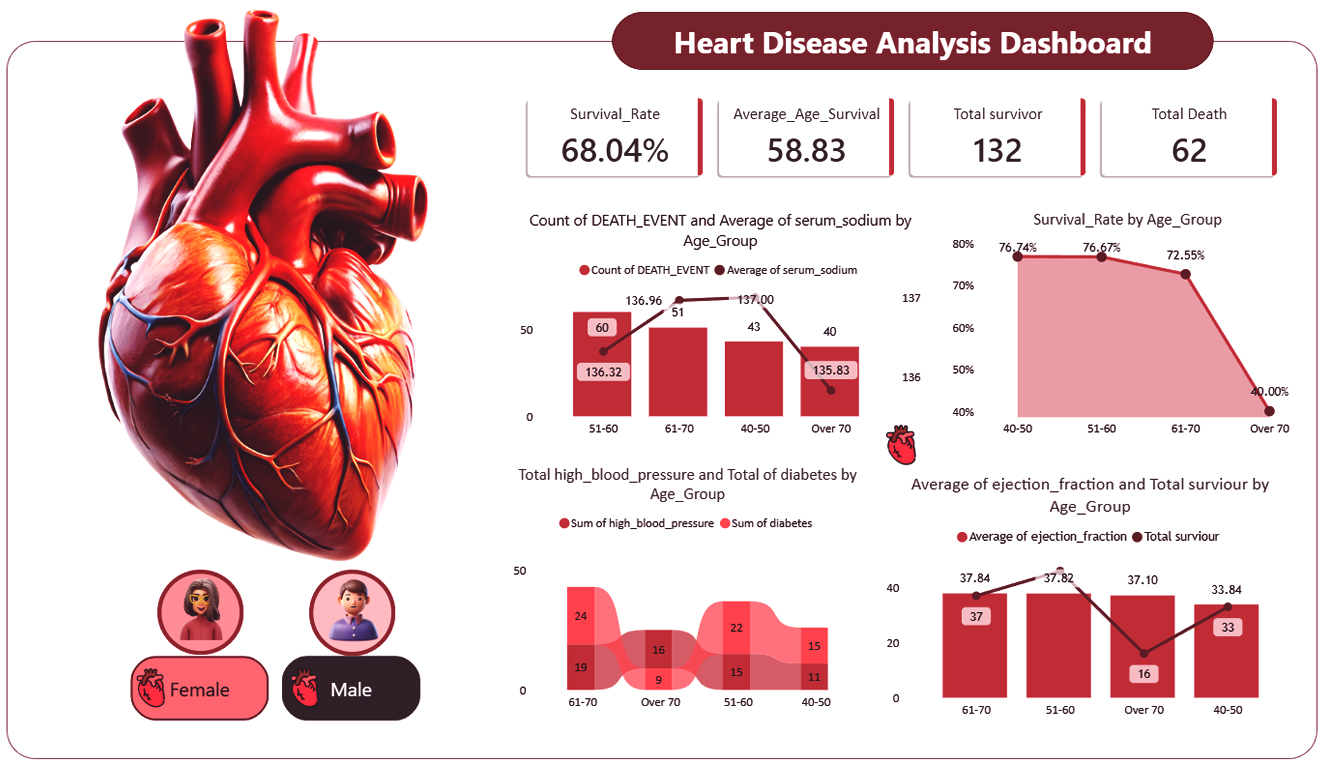

What the dashboard file says about the page in this screenshot:
{"tool":"powerbi","page":{"name":"Page 1","canvas":[1300,750],"ordinal":0},"visuals":[{"type":"shape","box":[9.4,40.6,1280.9,701.8],"z":0},{"type":"cardVisual","fields":{"Data":["heart_Disease.Survival_Rate","heart_Disease.Average_Age_Survival","heart_Disease.Total surviour","heart_Disease.Total Death"]},"box":[498.8,76.8,774.7,116.6],"z":1000},{"type":"image","box":[9.4,0,495.9,557.3],"z":2000},{"type":"lineClusteredColumnComboChart","fields":{"Category":["heart_Disease.Age_Group"],"Y":["CountNonNull(heart_Disease.DEATH_EVENT)"],"Y2":["Avg(heart_Disease.serum_sodium)"]},"box":[505.4,204.8,403,230.4],"z":3000},{"type":"lineClusteredColumnComboChart","fields":{"Category":["heart_Disease.Age_Group"],"Y":["Avg(heart_Disease.ejection_fraction)"],"Y2":["heart_Disease.Total surviour"]},"box":[863.4,461.9,409.9,248.4],"z":4000},{"type":"areaChart","fields":{"Category":["heart_Disease.Age_Group"],"Y":["heart_Disease.Survival_Rate"]},"box":[928.3,204.8,352.7,230.4],"z":5000},{"type":"ribbonChart","title":"Total high_blood_pressure and Total of diabetes by Age_Group","fields":{"Category":["heart_Disease.Age_Group"],"Y":["Sum(heart_Disease.high_blood_pressure)","Sum(heart_Disease.diabetes)"]},"box":[498.7,454.3,352.3,248.4],"z":6000},{"type":"shape","box":[600.8,12.3,588.5,56.7],"z":7000},{"type":"advancedSlicerVisual","fields":{"Values":["heart_Disease.Gender"]},"box":[125.2,636.3,294.9,74],"z":8000},{"type":"shape","box":[156.4,557.5,84.4,83.4],"z":9000},{"type":"image","box":[167.8,561.3,63.5,66.4],"z":10000},{"type":"shape","box":[305.3,557.5,84.4,84.4],"z":11000},{"type":"image","box":[312.9,557.5,72.1,79.6],"z":12000},{"type":"image","box":[863.4,410.9,39.7,49.1],"z":13000},{"type":"image","box":[130.9,652.4,37.9,39.8],"z":14000},{"type":"image","box":[281.6,652.4,37.9,39.8],"z":15000}]}

Visuals, with their boxes in screenshot pixels (x1, y1, x2, y2), scaled from the page's 1300x750 canvas onto the 1325x764 screenshot:
shape: crop(10, 41, 1315, 756)
cardVisual - heart_Disease.Survival_Rate x heart_Disease.Average_Age_Survival: crop(508, 78, 1298, 197)
image: crop(10, 0, 515, 568)
lineClusteredColumnComboChart - heart_Disease.Age_Group x CountNonNull(heart_Disease.DEATH_EVENT): crop(515, 209, 926, 443)
lineClusteredColumnComboChart - heart_Disease.Age_Group x Avg(heart_Disease.ejection_fraction): crop(880, 471, 1298, 724)
areaChart - heart_Disease.Age_Group x heart_Disease.Survival_Rate: crop(946, 209, 1306, 443)
"Total high_blood_pressure and Total of diabetes by Age_Group" ribbonChart: crop(508, 463, 867, 716)
shape: crop(612, 13, 1212, 70)
advancedSlicerVisual - heart_Disease.Gender: crop(128, 648, 428, 724)
shape: crop(159, 568, 245, 653)
image: crop(171, 572, 236, 639)
shape: crop(311, 568, 397, 654)
image: crop(319, 568, 392, 649)
image: crop(880, 419, 920, 469)
image: crop(133, 665, 172, 705)
image: crop(287, 665, 326, 705)
